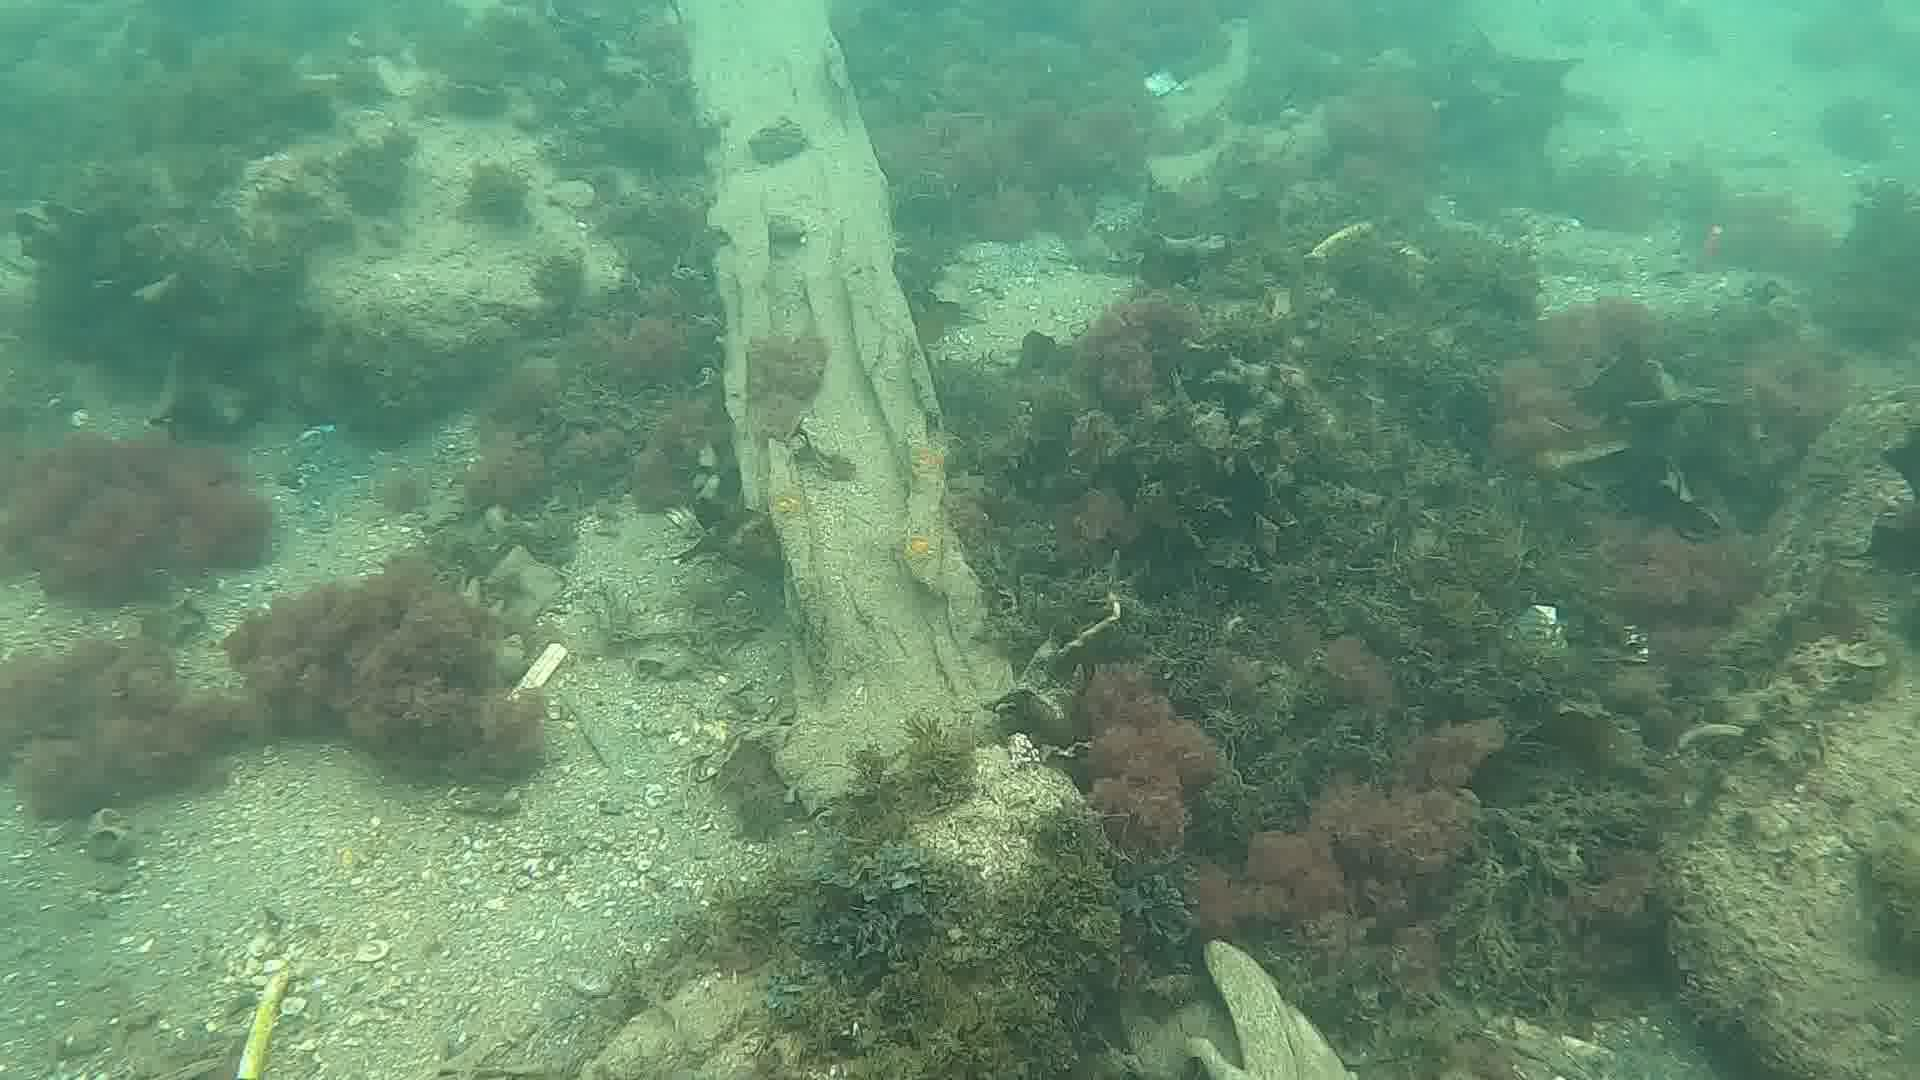wood: (670, 0, 1023, 823)
